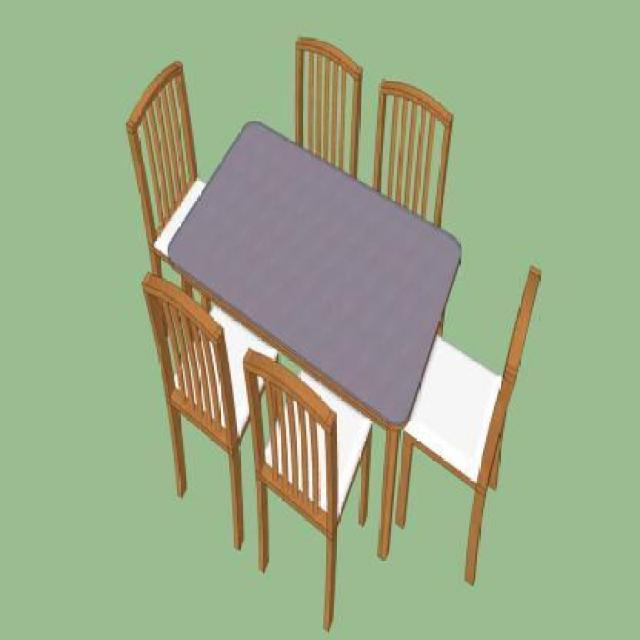tables: (150, 117, 462, 560)
